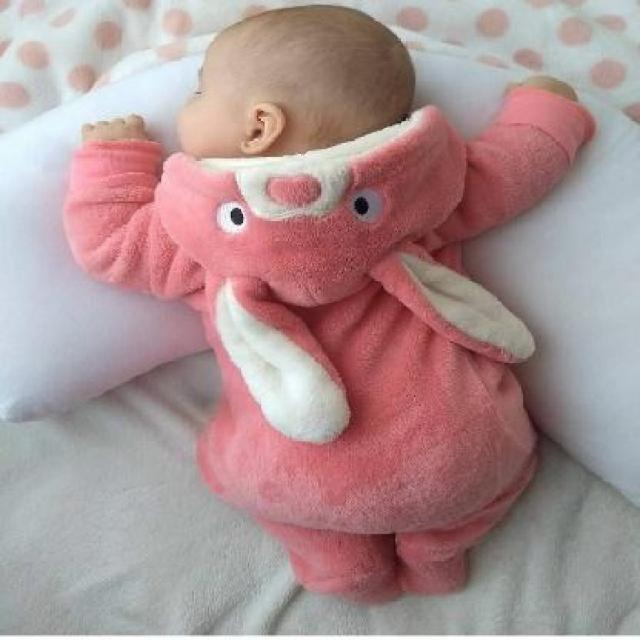baby: (61, 3, 594, 599)
